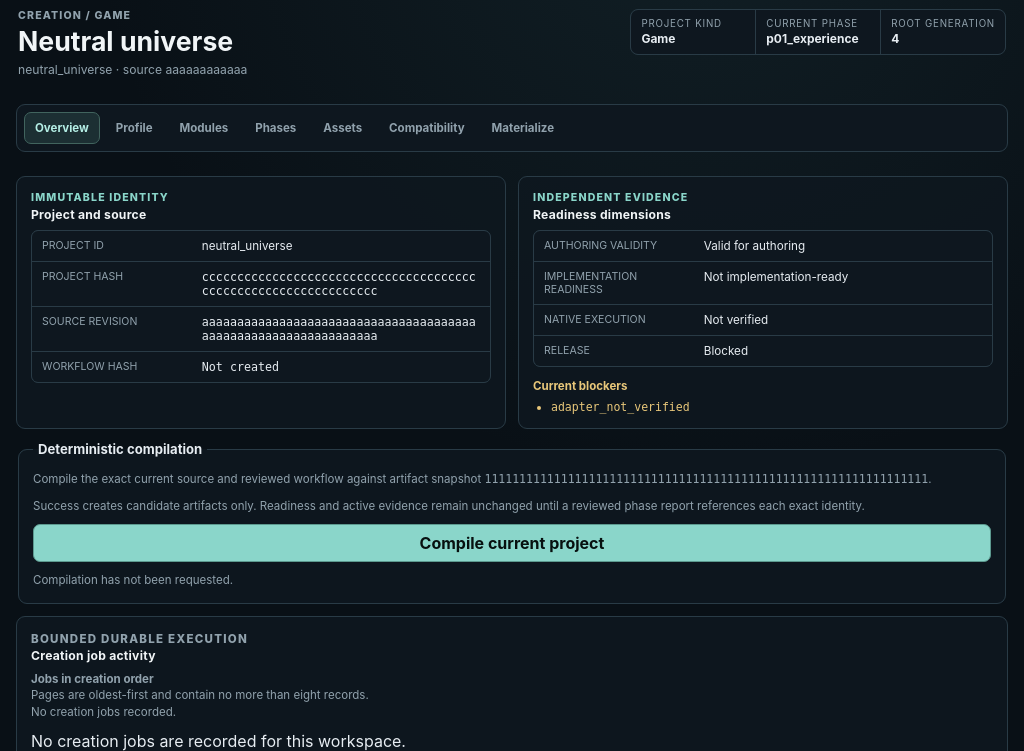
Test: CreationWorkspace › keeps a non-asset output authority globally durable without exposing it as an assetpack
This screenshot has width=1024, height=751.
Click the tab "Assets". click: {"x": 343, "y": 128}
box: [312, 112, 373, 144]
(page scrolled)
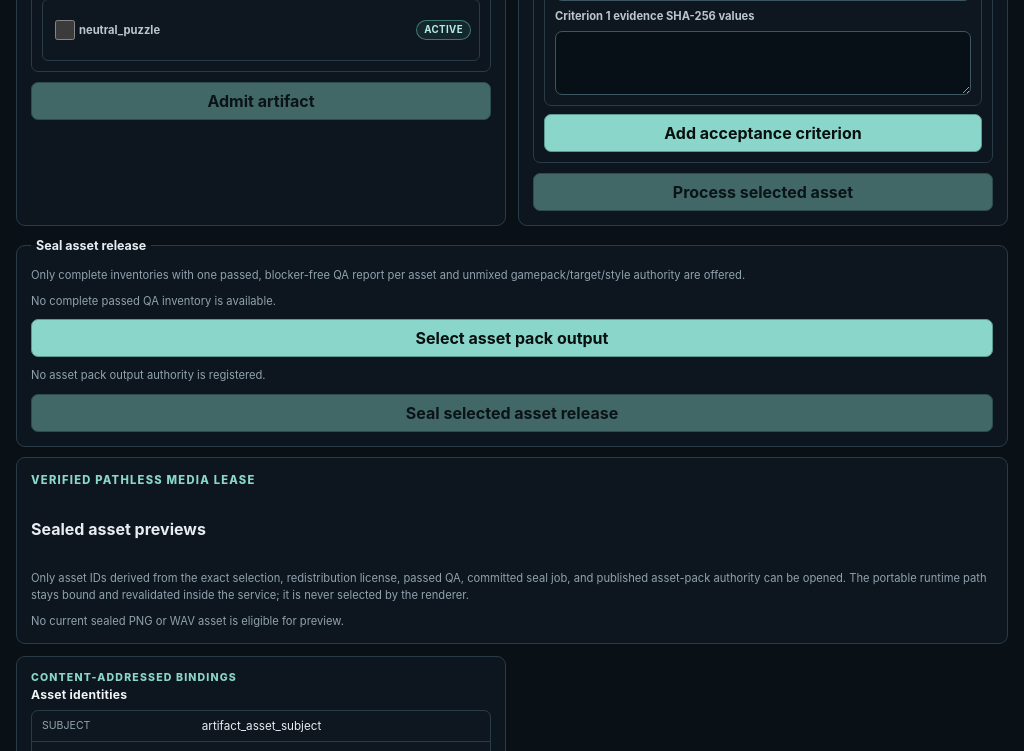
Result: the button "Select asset pack output" is shown at [31, 319, 993, 357]
Result: the text "No asset pack output authority is registered." is shown at [31, 368, 266, 382]
